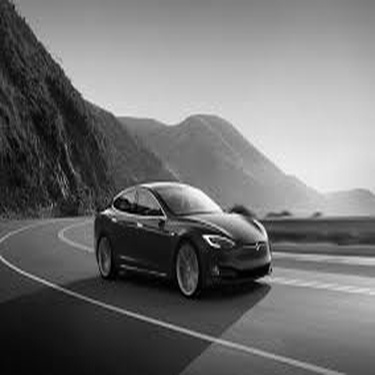car: (77, 169, 276, 304)
